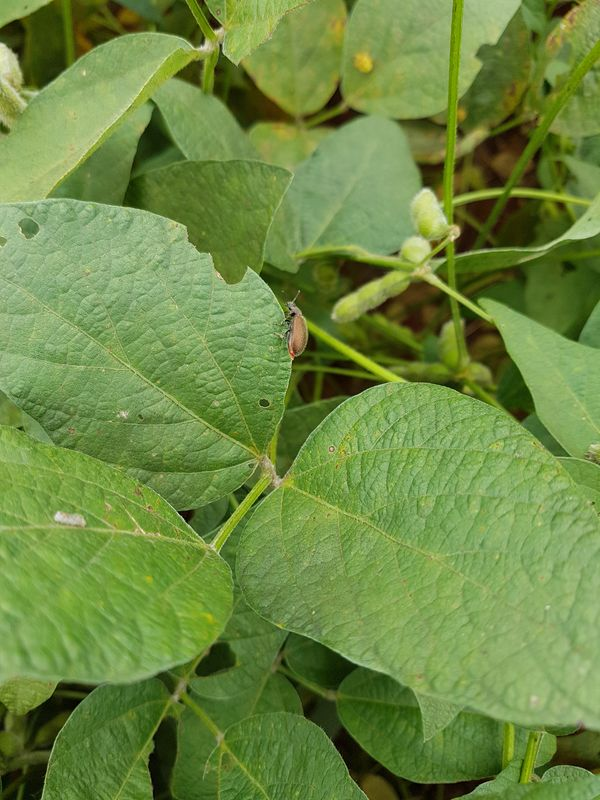Lagria_villosa: (266, 288, 326, 365)
